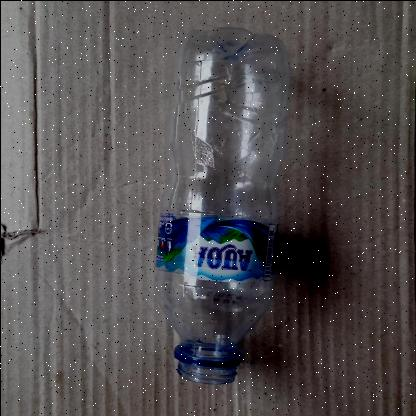Plastic Bottle: (154, 27, 286, 383)
